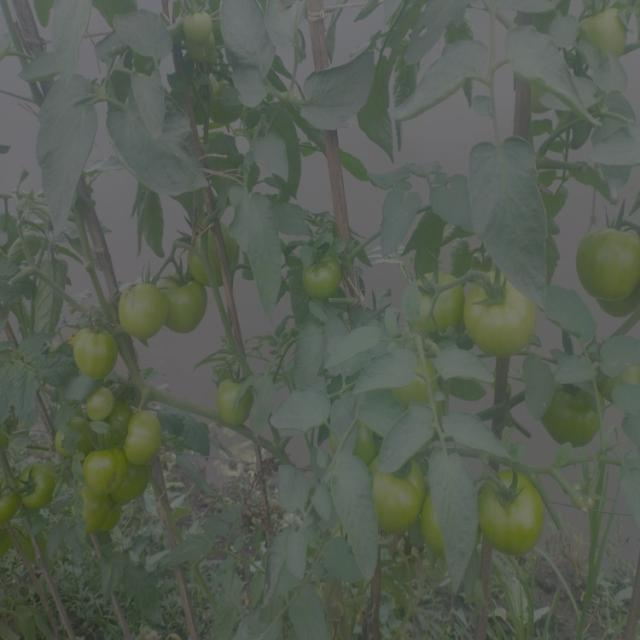tomato: (471, 270, 542, 362), (583, 218, 640, 312), (484, 468, 545, 549), (414, 273, 469, 343), (373, 460, 423, 534), (115, 271, 166, 338), (551, 386, 604, 449), (179, 226, 240, 279), (69, 317, 121, 378), (580, 5, 634, 58), (215, 368, 258, 434), (126, 405, 171, 468), (165, 278, 211, 332), (77, 446, 124, 494), (298, 252, 344, 300), (77, 495, 116, 542), (18, 460, 52, 509), (81, 384, 120, 421), (183, 10, 219, 50), (51, 425, 82, 461), (355, 423, 383, 460), (424, 515, 442, 545)
